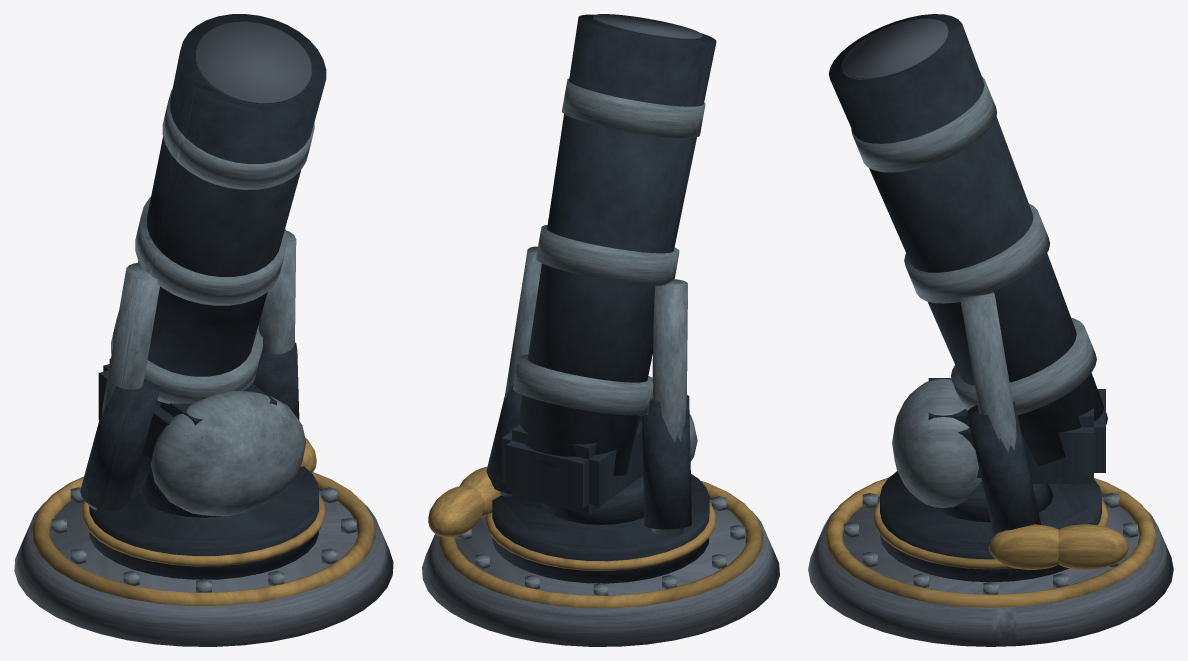
The model's file is tower_mortar_1.glb.
3 renders of one model, left to right at view 1: azimuth 30°, elevation 25°; view 2: azimuth 150°, elevation 25°; view 3: azimuth 270°, elevation 25°, orthographic. The views are drawn at different scales.
Parts seen in each view (by area): view 1: Forged_black_iron.001, Weathered_blue_steel.001, Weathered_granite, Forged_black_iron, Antique_brass, Eye_socket, Weathered_blue_steel; view 2: Forged_black_iron.001, Weathered_blue_steel.001, Weathered_granite, Forged_black_iron, Antique_brass, Eye_socket, Weathered_blue_steel; view 3: Forged_black_iron.001, Weathered_blue_steel.001, Weathered_granite, Antique_brass, Forged_black_iron, Eye_socket, Weathered_blue_steel.
Boxes of the visible parts, x1,y1,x2,y2 form: Forged_black_iron.001: (80, 14, 326, 510); Weathered_blue_steel.001: (87, 89, 314, 516); Weathered_granite: (14, 490, 393, 646); Forged_black_iron: (89, 453, 318, 579); Antique_brass: (32, 438, 375, 605); Eye_socket: (195, 21, 311, 104); Weathered_blue_steel: (51, 487, 356, 592); Forged_black_iron.001: (486, 14, 716, 529); Weathered_blue_steel.001: (500, 78, 705, 535); Weathered_granite: (422, 499, 779, 646); Forged_black_iron: (492, 474, 709, 583); Antique_brass: (428, 466, 763, 608); Eye_socket: (593, 14, 702, 39); Weathered_blue_steel: (456, 496, 745, 595); Forged_black_iron.001: (829, 14, 1107, 535); Weathered_blue_steel.001: (851, 76, 1096, 507); Weathered_granite: (808, 496, 1173, 646); Antique_brass: (825, 477, 1156, 607); Forged_black_iron: (880, 471, 1101, 581); Eye_socket: (841, 18, 948, 79); Weathered_blue_steel: (844, 493, 1137, 594).
Size of the model in its own units: 2.7 by 4.4 by 2.7.
Materials: 5 (4 with a texture image).
